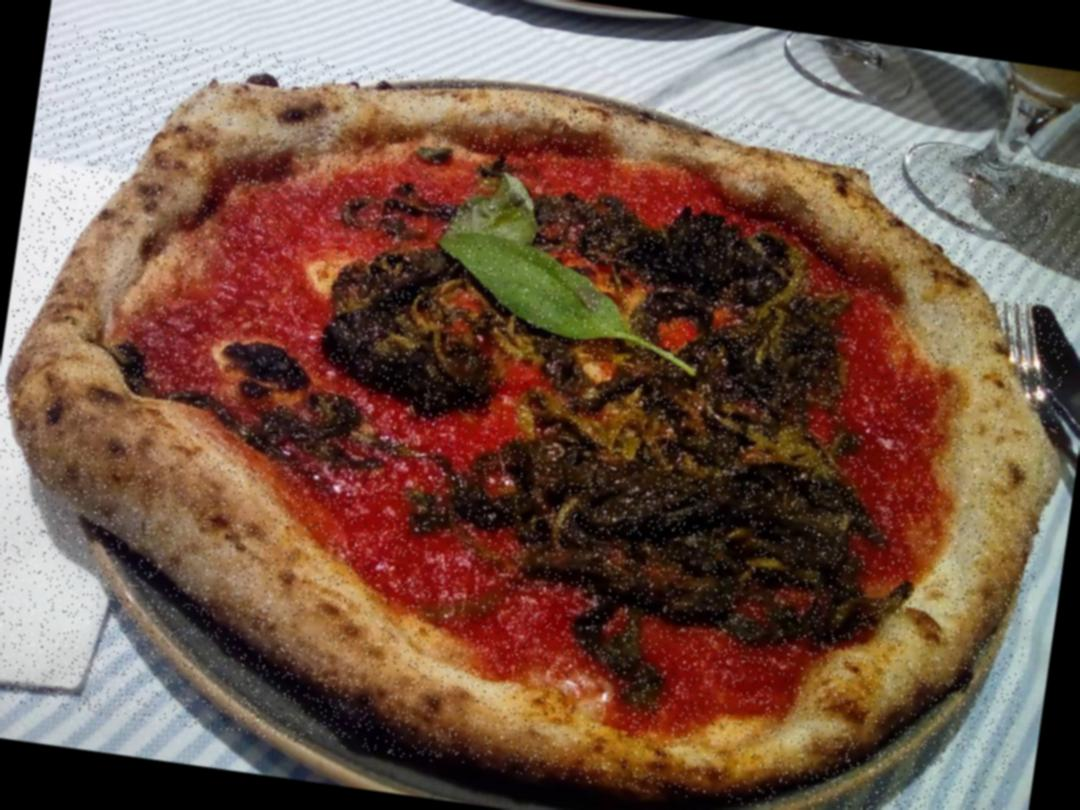Basil: (415, 237, 718, 401), (435, 168, 553, 270)
Pizza: (0, 20, 1080, 810)
